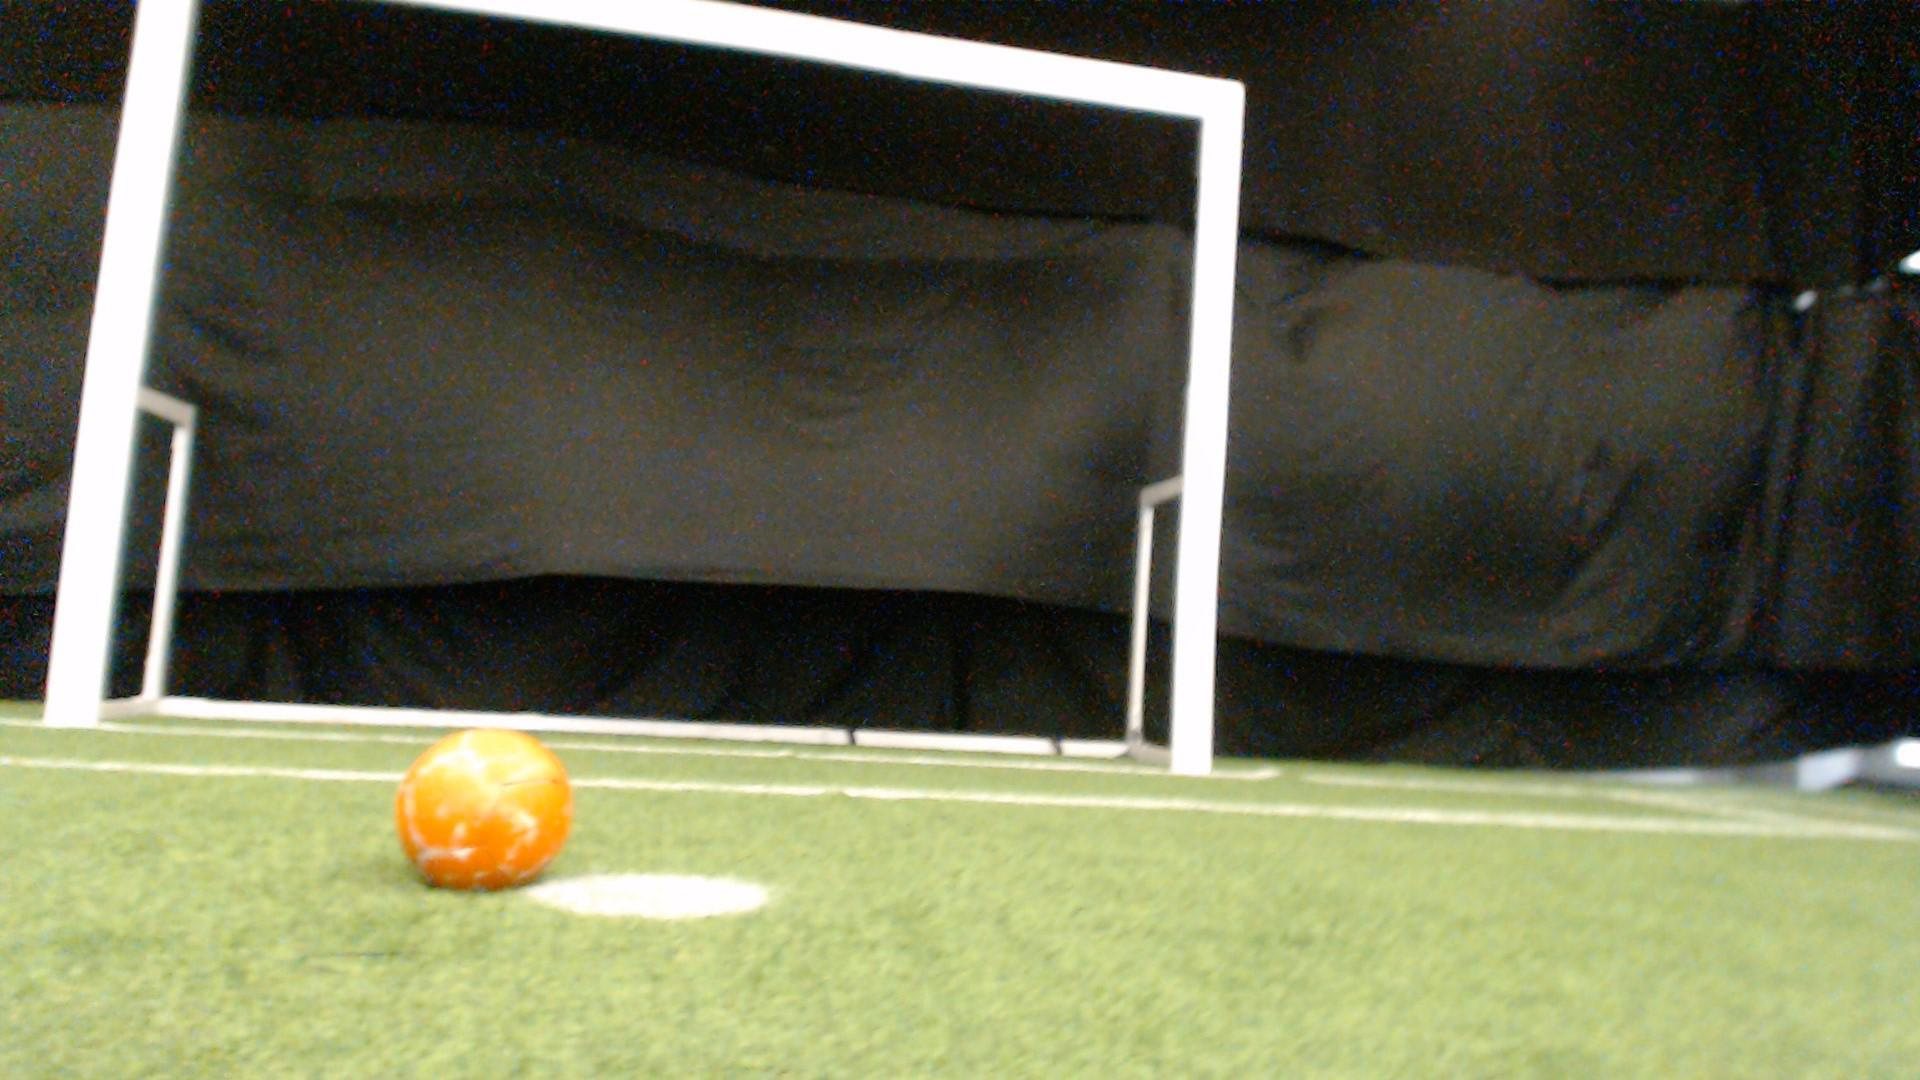bola: (365, 716, 583, 910)
